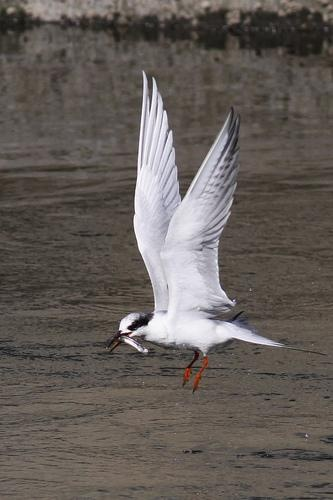bird: (103, 67, 313, 392)
